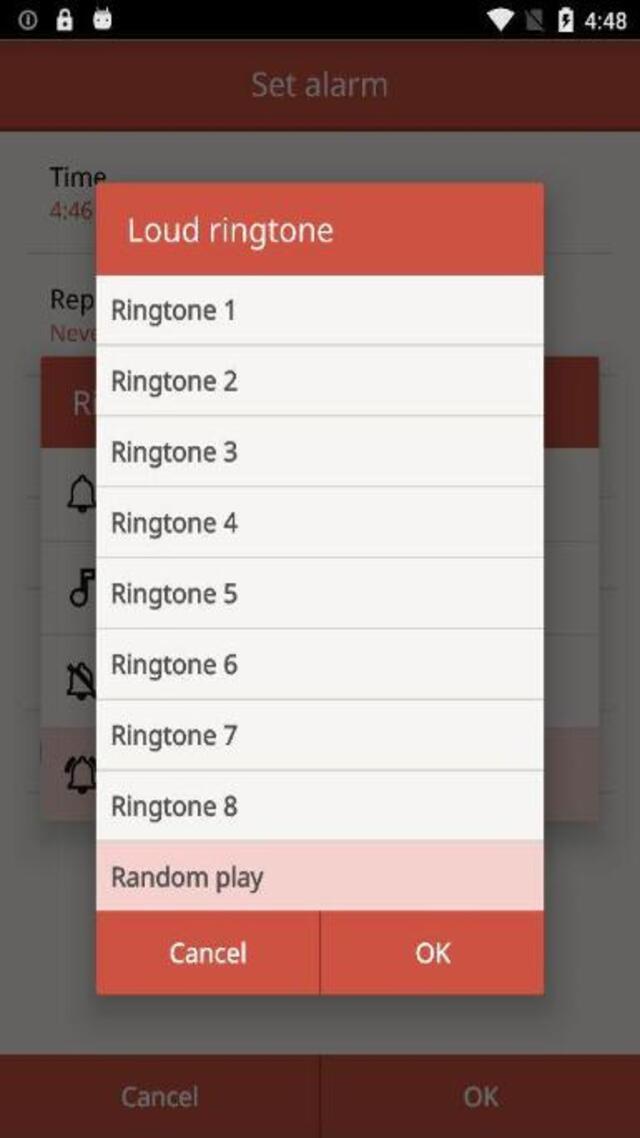Text: (129, 215, 333, 251), (112, 864, 264, 894), (112, 367, 237, 398), (111, 652, 238, 682), (112, 438, 237, 468), (112, 580, 237, 610), (111, 793, 238, 822), (250, 70, 386, 97), (111, 510, 238, 538), (112, 722, 237, 750), (112, 299, 235, 327), (165, 939, 252, 967), (118, 1083, 204, 1111), (406, 935, 463, 970), (460, 1081, 503, 1111)
TextButton: (322, 1054, 640, 1138), (2, 1054, 320, 1136), (96, 910, 320, 994), (321, 910, 544, 994)
